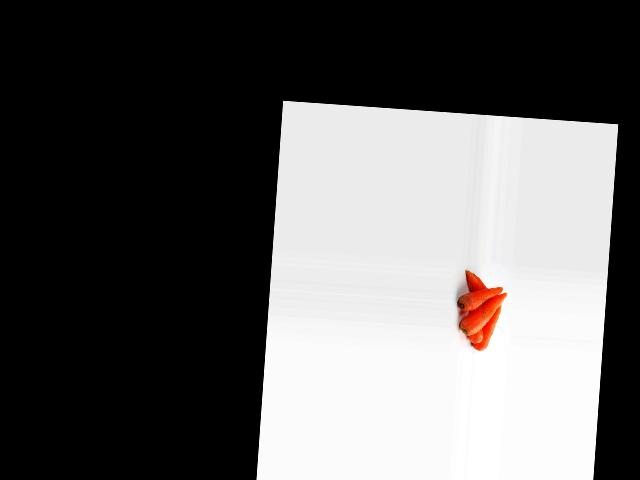carrot: (456, 282, 502, 314)
